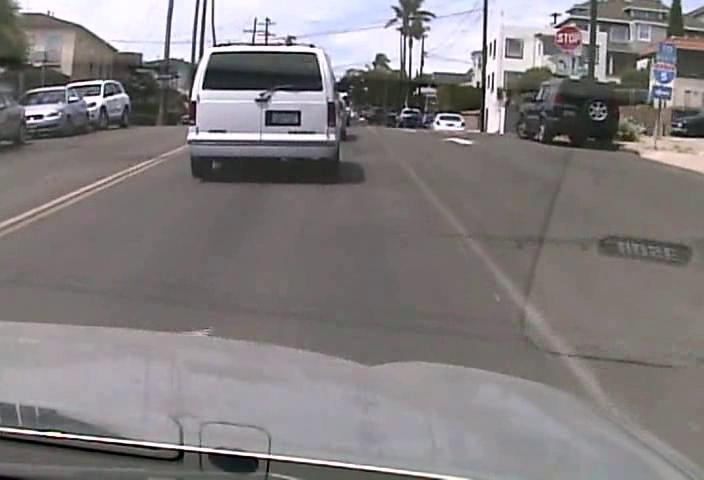stop: (554, 25, 582, 52)
